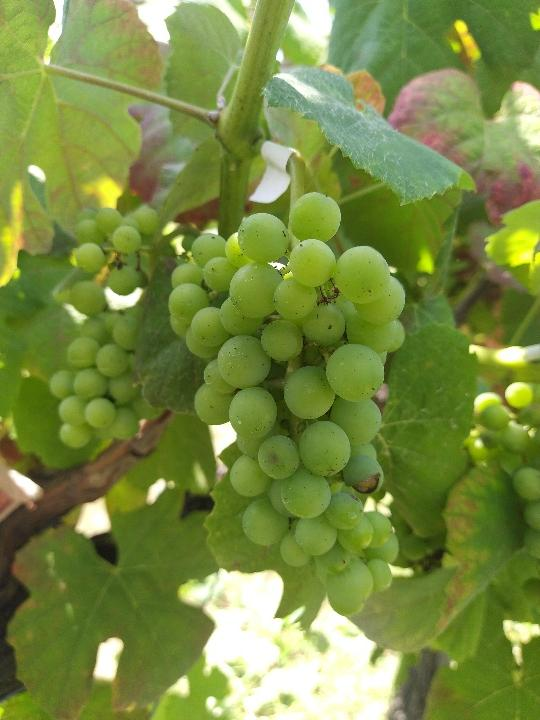grape: (163, 187, 408, 621)
